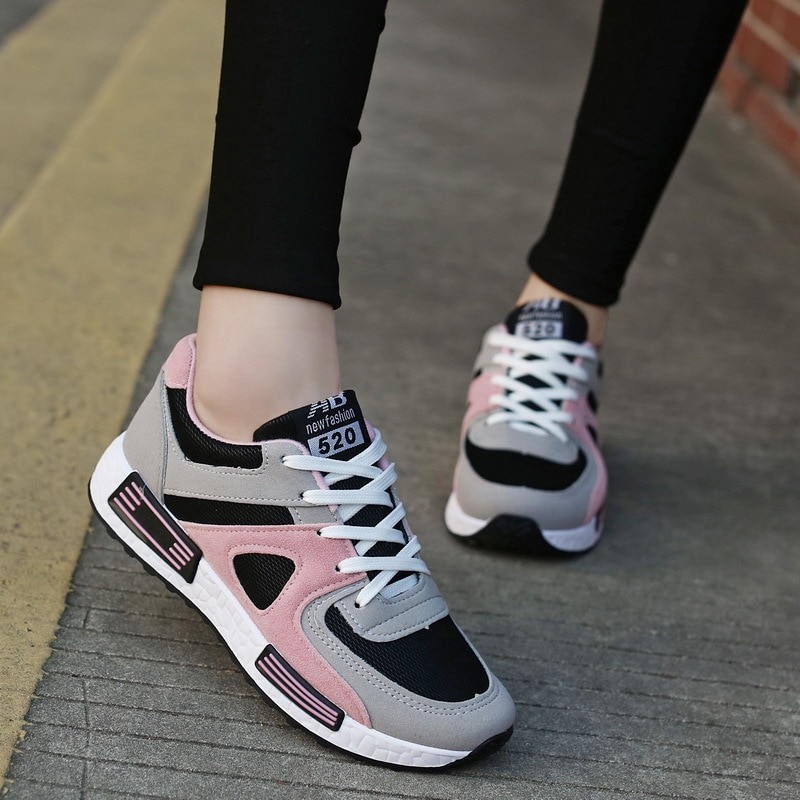shoe: (65, 308, 534, 800), (443, 291, 682, 549)
